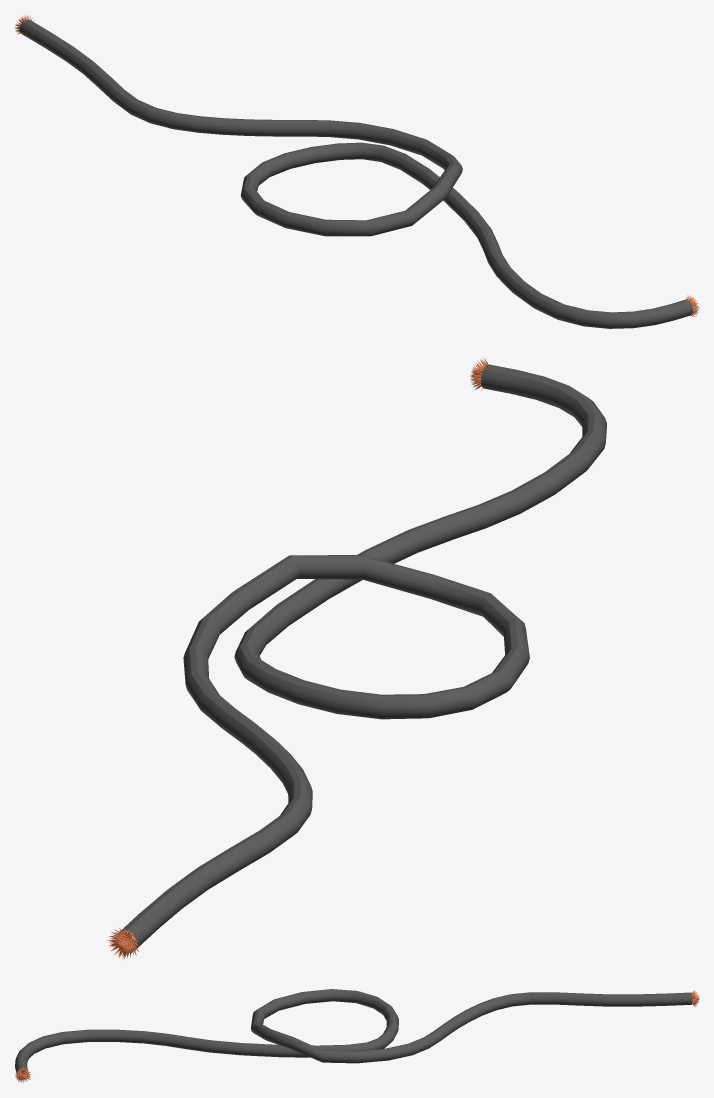
The model's file is Wire.fbx.
The picture shows the model from 3 angles, top to bottom: view 1: azimuth 30°, elevation 25°; view 2: azimuth 150°, elevation 25°; view 3: azimuth 270°, elevation 25°; orthographic projection. The views are drawn at different scales.
Visible parts, largest first — view 1: wire1; view 2: wire1; view 3: wire1.
Part boxes in pixels (left/top/right/bottom): wire1: left=14, top=15, right=699, bottom=328; wire1: left=107, top=358, right=606, bottom=959; wire1: left=15, top=989, right=699, bottom=1083.
Size of the model in its own units: 1.18 by 0.1711 by 4.02.
